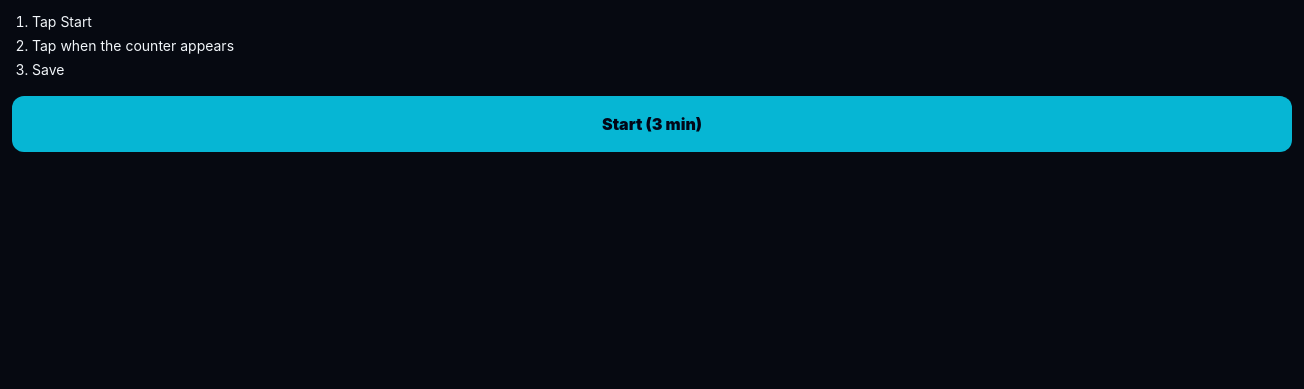
it: T-2 PvtTest screen › the full protocol shows no short-mode label and can be stopped without a result
The image size is (1304, 389).
Click the button with test id "pvt-start" at (652, 124), box top-left (12, 96), bottom-right (1292, 152)
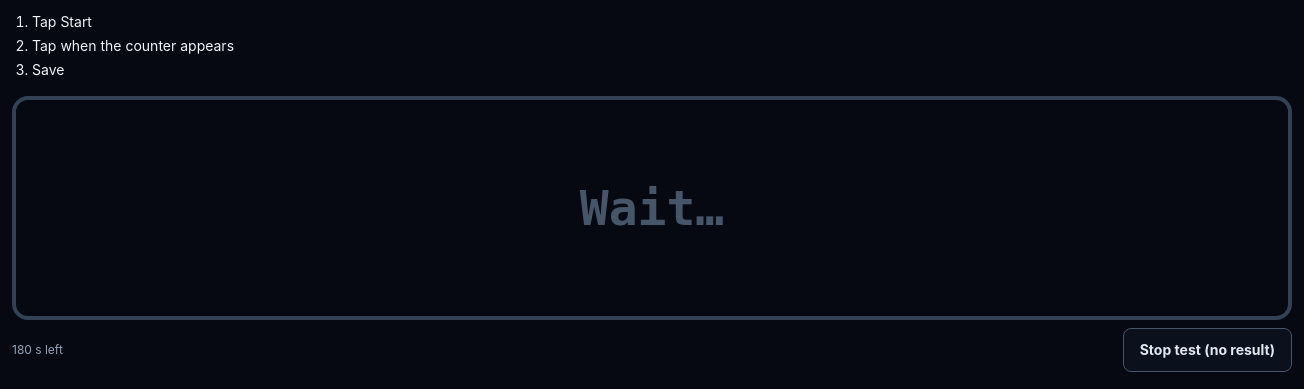
Click the button "Stop test (no result)" at (1207, 350), box top-left (1123, 328), bottom-right (1292, 372)
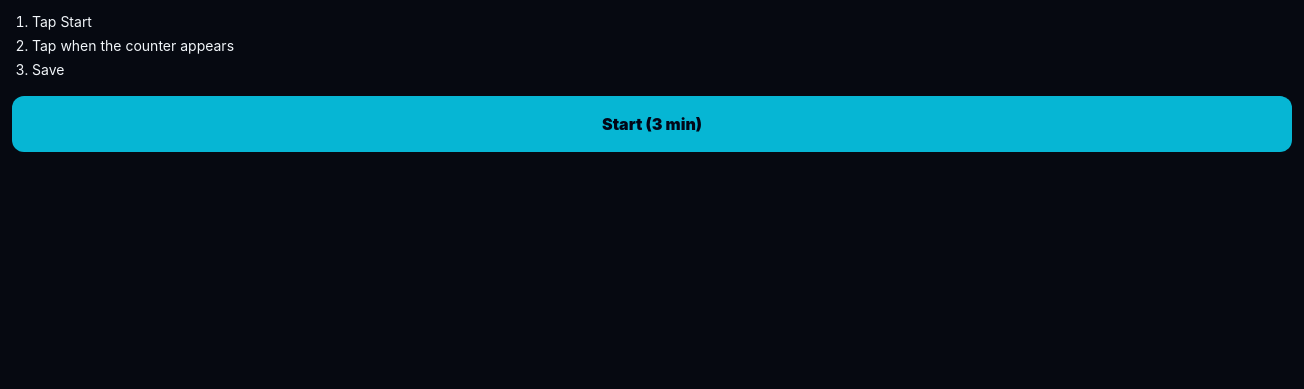
Expected: the button with test id "pvt-start" is shown, top-left (12, 96), bottom-right (1292, 152)
